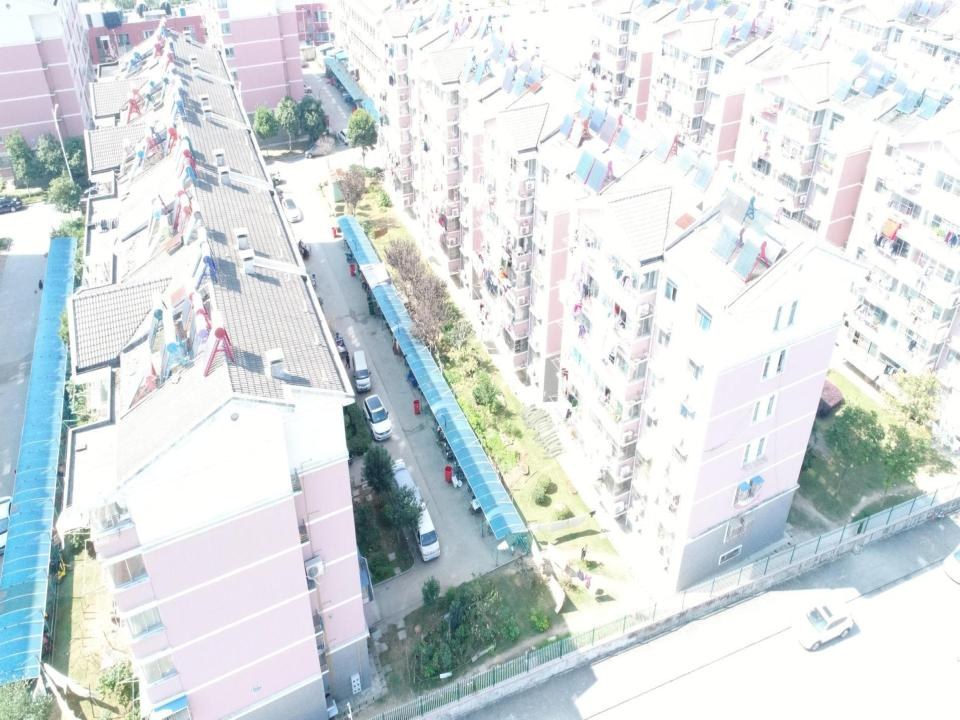car: (792, 599, 854, 651), (386, 457, 424, 515), (0, 495, 16, 557), (942, 542, 960, 584), (303, 140, 333, 159), (281, 196, 301, 223), (0, 194, 23, 215), (337, 127, 356, 146), (83, 185, 104, 198), (304, 92, 322, 106), (268, 169, 282, 185), (303, 82, 312, 94)
truck: (300, 57, 306, 68)
van: (409, 502, 440, 562), (362, 394, 393, 442), (352, 348, 370, 392)
